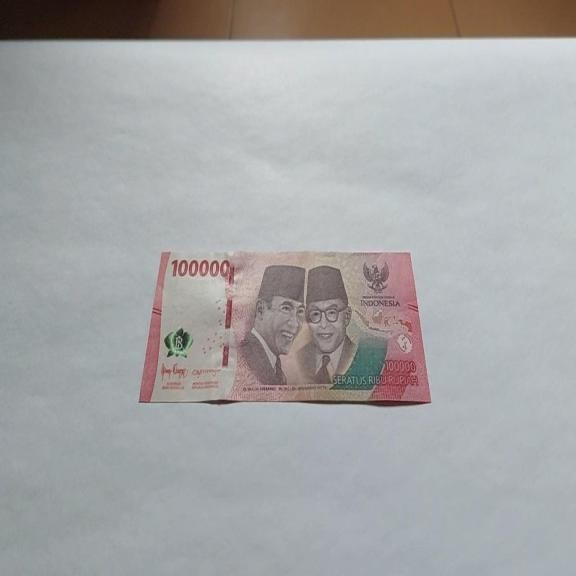Kertas: (138, 248, 432, 407)
